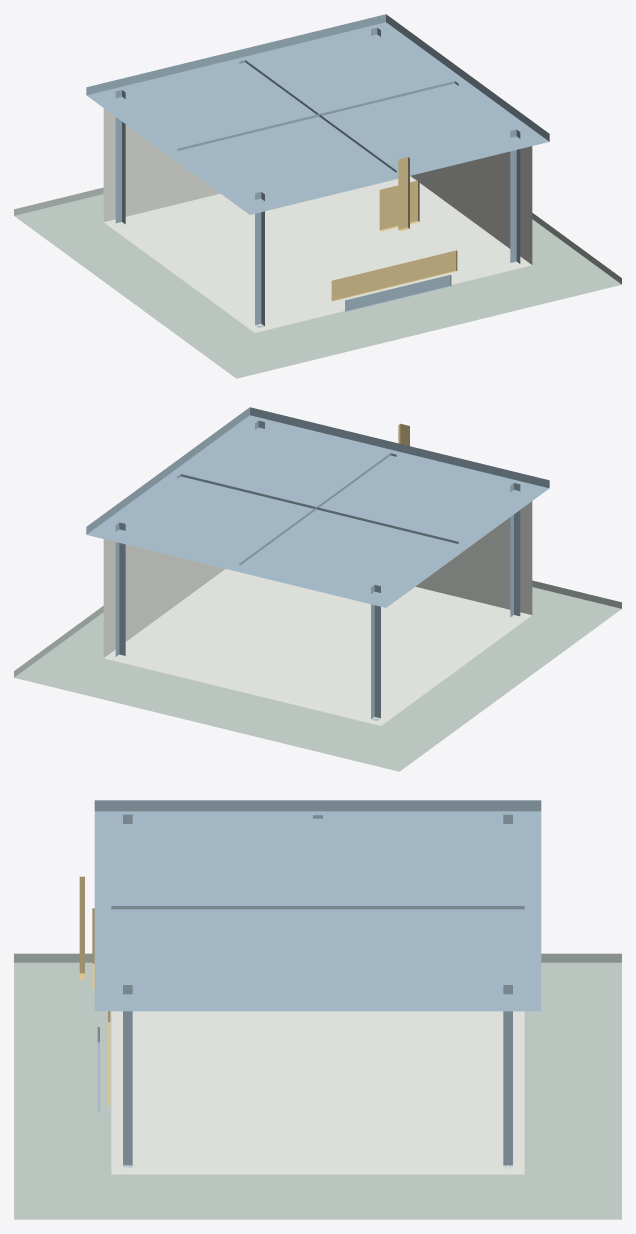
The model's file is hospital.glb.
3 renders of one model, top to bottom at view 1: azimuth 30°, elevation 25°; view 2: azimuth 150°, elevation 25°; view 3: azimuth 270°, elevation 25°, orthographic. The views are drawn at different scales.
Parts seen in each view (by area): view 1: Roof, Walls, Foundation, Details, Frame; view 2: Roof, Walls, Foundation, Frame; view 3: Roof, Foundation, Walls, Frame, Details.
Boxes of the visible parts, x1,y1,x2,y2 form: Roof: [86, 14, 549, 214]; Walls: [103, 108, 532, 332]; Foundation: [14, 187, 621, 378]; Details: [331, 157, 457, 311]; Frame: [115, 27, 520, 327]; Roof: [86, 407, 549, 607]; Walls: [103, 501, 532, 725]; Foundation: [14, 580, 621, 771]; Frame: [115, 420, 520, 720]; Roof: [94, 800, 541, 1011]; Foundation: [14, 953, 621, 1219]; Walls: [111, 1011, 524, 1174]; Frame: [111, 814, 524, 1167]; Details: [79, 876, 110, 1112].
Size of the model in its own units: 40 by 15.33 by 40.
